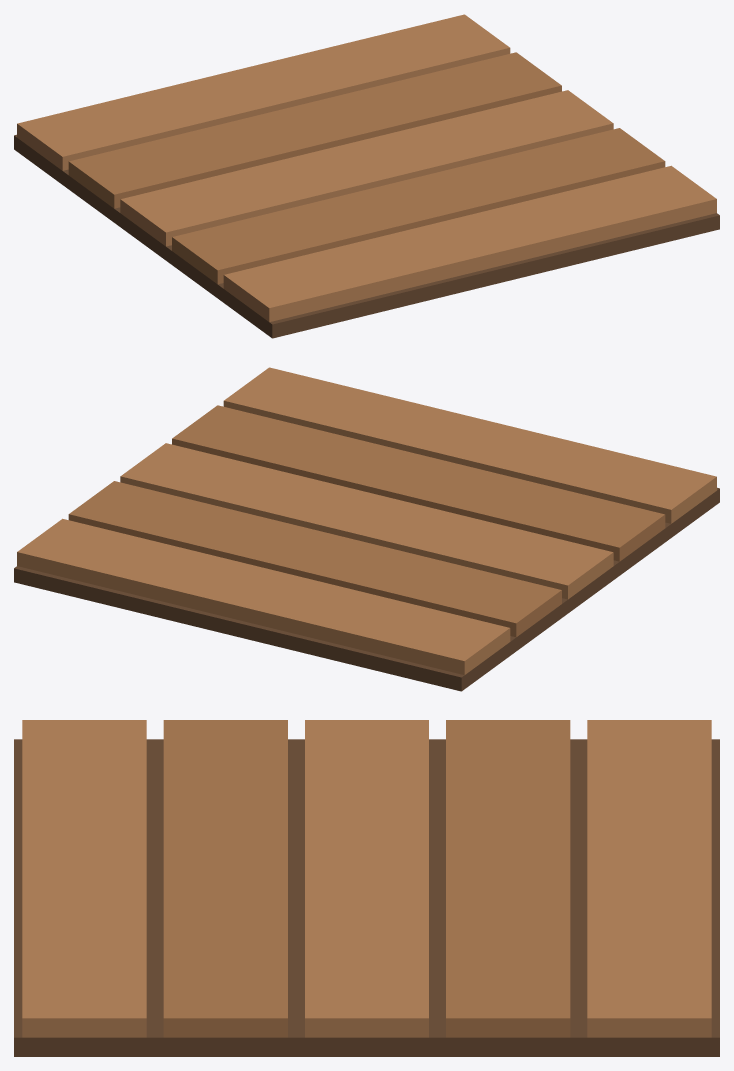
The model's file is boden_deck_a.glb.
3 views of the same model, one above another, from view 1: azimuth 30°, elevation 25°; view 2: azimuth 150°, elevation 25°; view 3: azimuth 270°, elevation 25° (orthographic). The views are drawn at different scales.
Visible parts, largest first — view 1: boden_deck_a; view 2: boden_deck_a; view 3: boden_deck_a.
Boxes of the visible parts, x1,y1,x2,y2 form: boden_deck_a: (14, 14, 719, 338); boden_deck_a: (14, 367, 719, 691); boden_deck_a: (14, 720, 719, 1056).
Bounding box in the file's own units: 1 × 0.06 × 1.
